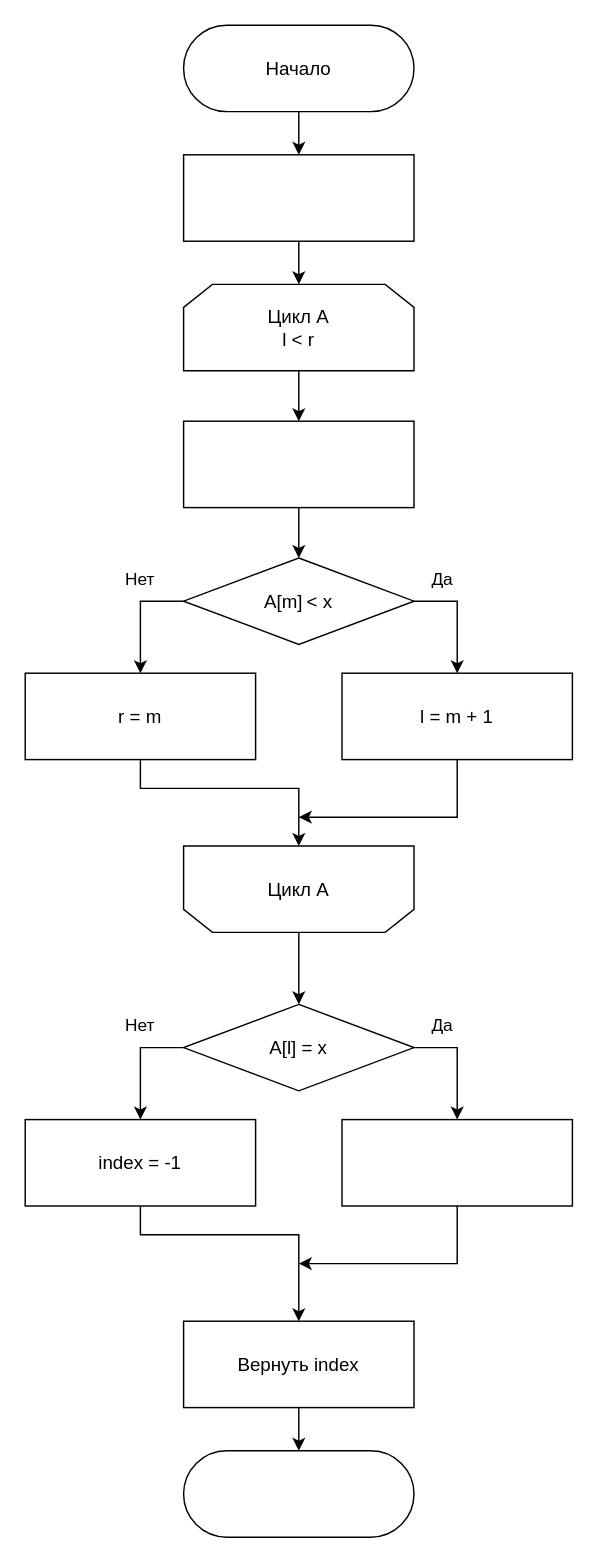
The diagram is 598 pixels wide and 1562 high, and some of its shapes have lost their labels. Each missing label, with the box of its shape:
index = l: (341, 1118, 572, 1206)
l = 0, r = N - 1: (182, 153, 414, 241)
m = l + (r - l) / 2: (182, 420, 414, 508)
Конец: (182, 1449, 414, 1537)
